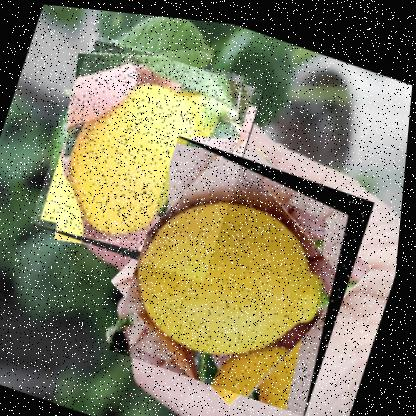lemon: (111, 126, 381, 414), (30, 25, 269, 282)
